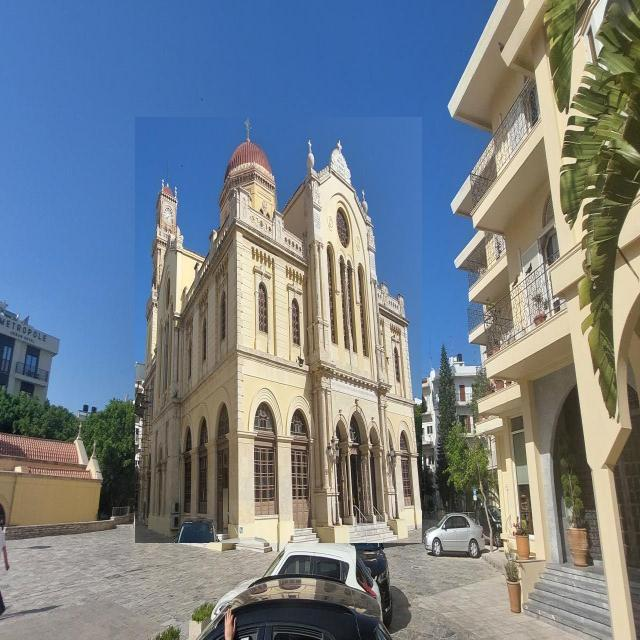Agios Minas: (136, 118, 423, 544)
